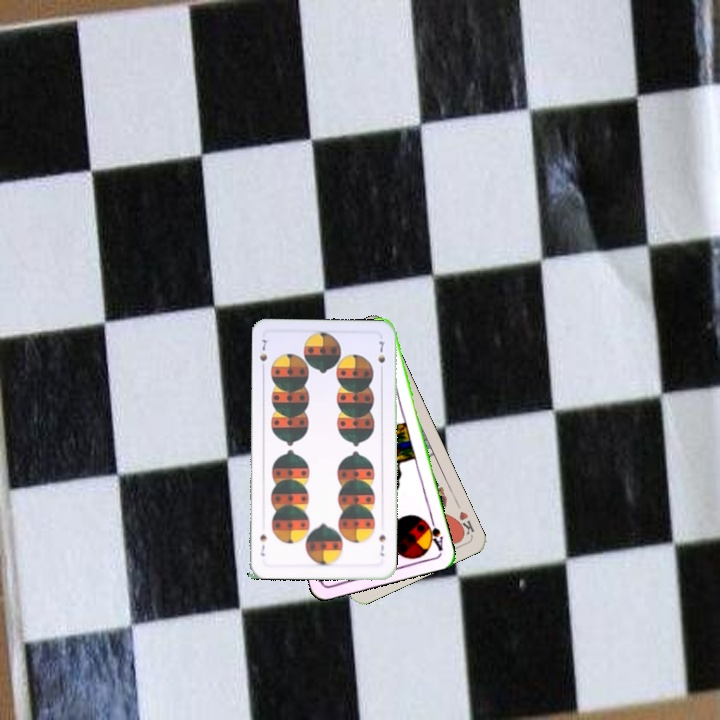HK: (451, 499, 477, 539)
S7: (256, 335, 270, 374), (375, 531, 388, 558)
SA: (421, 513, 446, 553)
